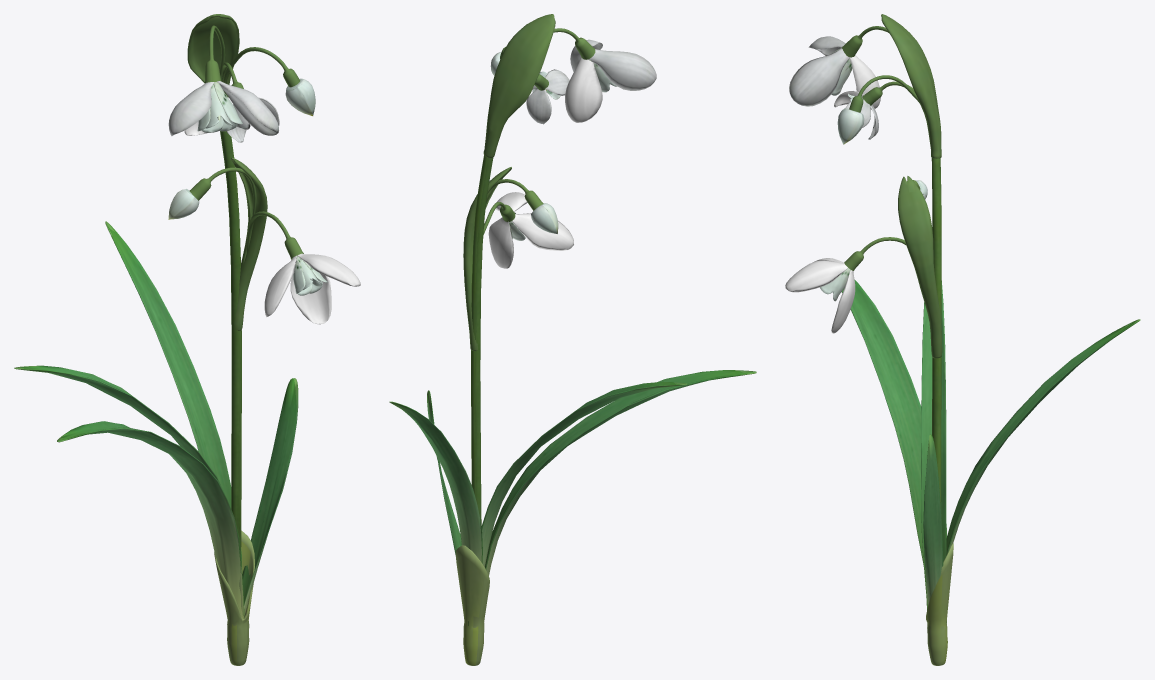
File: snowdrop.gltf
3 renders of one model, left to right at view 1: azimuth 30°, elevation 25°; view 2: azimuth 150°, elevation 25°; view 3: azimuth 270°, elevation 25°, orthographic. The views are drawn at different scales.
Parts seen in each view (by area): view 1: 12970_snowdrop_flower_v1_l2; view 2: 12970_snowdrop_flower_v1_l2; view 3: 12970_snowdrop_flower_v1_l2.
Boxes of the visible parts, box(x1,y1,x2,y2) form: 12970_snowdrop_flower_v1_l2: box(14, 14, 360, 665); 12970_snowdrop_flower_v1_l2: box(389, 14, 756, 665); 12970_snowdrop_flower_v1_l2: box(785, 14, 1140, 665).
Size of the model in its own units: 0.4201 by 0.9255 by 0.4772.
5 materials, 4 textured.
